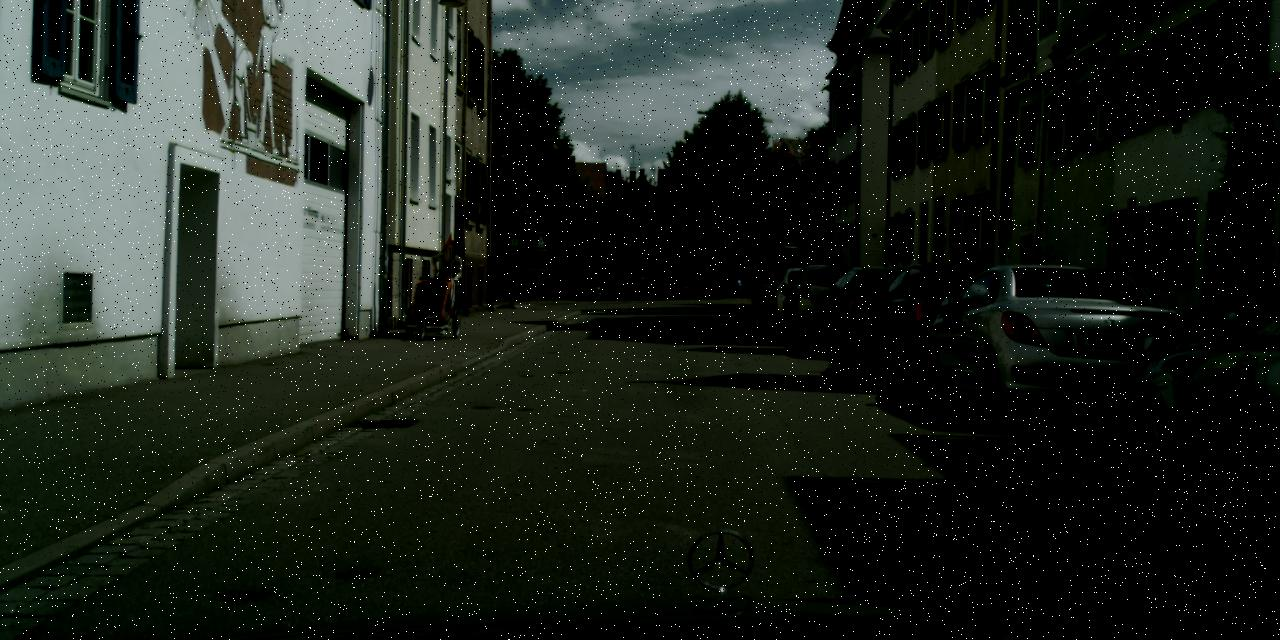ped: (429, 241, 466, 331)
